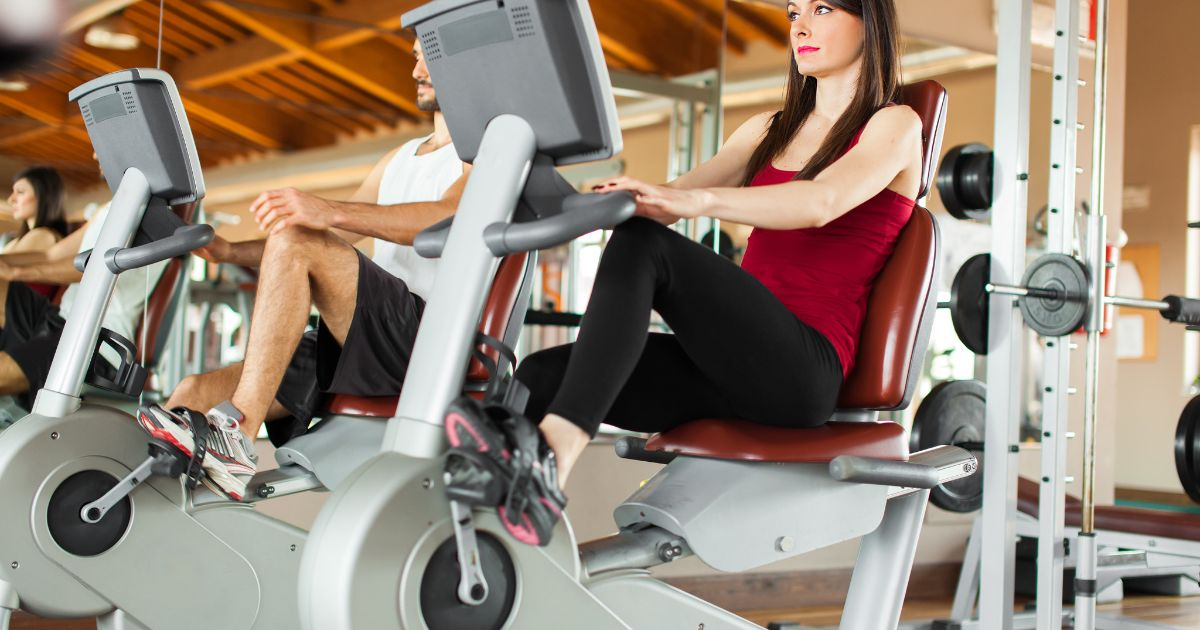gym_bike: (278, 5, 933, 630)
